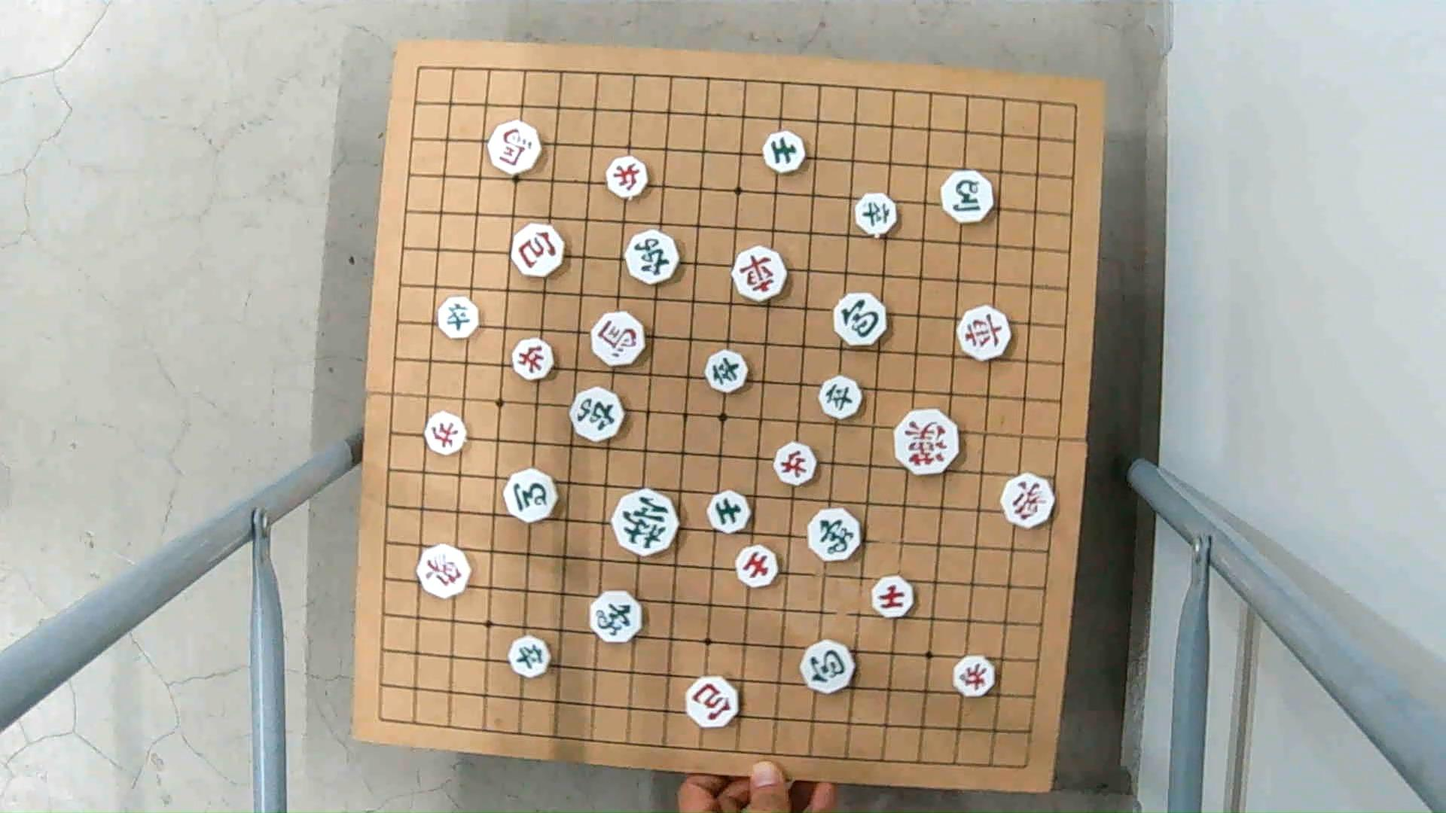cha_green: (569, 389, 626, 439), (622, 232, 679, 282)
cha_red: (955, 307, 1014, 358), (731, 250, 786, 301)
jol_green: (818, 378, 865, 419), (853, 193, 901, 233), (506, 637, 554, 676), (704, 351, 750, 391), (435, 300, 482, 338)
jol_red: (950, 656, 996, 697), (424, 411, 468, 453), (772, 443, 818, 483), (603, 158, 648, 198), (511, 341, 556, 379)
ma_green: (504, 469, 560, 522), (941, 171, 999, 221)
ma_red: (485, 121, 544, 172), (590, 315, 648, 364)
po_green: (799, 643, 856, 692), (834, 295, 889, 345)
po_red: (685, 677, 742, 727), (511, 227, 567, 277)
sa_green: (704, 491, 752, 531), (761, 134, 809, 172)
sa_red: (871, 575, 914, 617), (734, 548, 779, 588)
sang_green: (807, 507, 862, 560), (590, 592, 642, 641)
sang_red: (1000, 473, 1057, 525), (417, 547, 473, 597)
wang_green: (612, 491, 681, 555)
wang_red: (895, 413, 963, 470)
